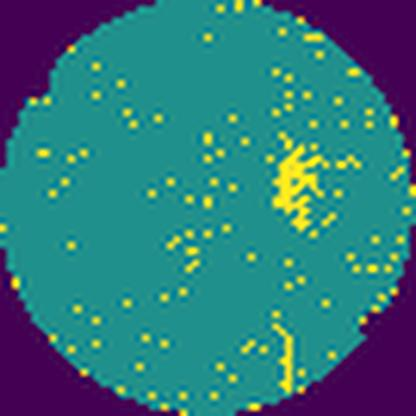Loc: (273, 143, 331, 233)
